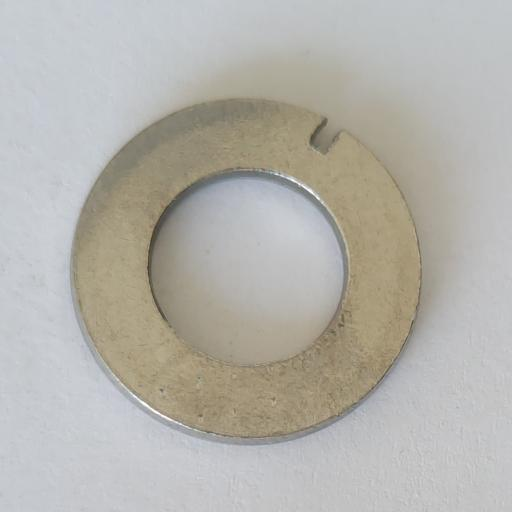burr: (304, 115, 344, 157)
